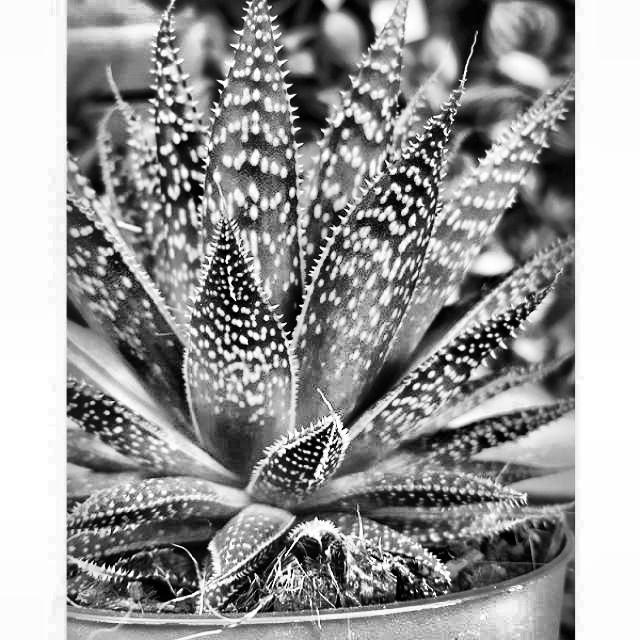plants: (70, 31, 576, 587)
